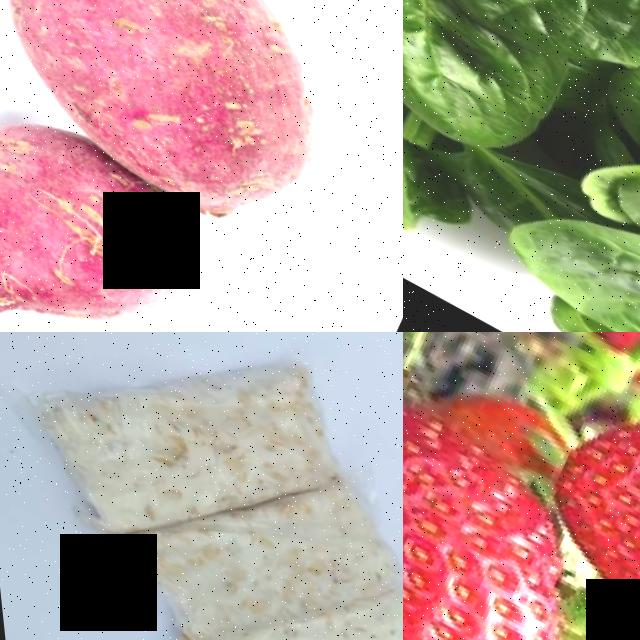spinach: (403, 0, 578, 181), (469, 161, 640, 332), (418, 0, 640, 128)
strawberry: (403, 393, 599, 640), (527, 353, 640, 640)
sweet potato: (0, 0, 390, 251), (0, 85, 226, 332)
tempeh: (5, 332, 363, 586), (95, 423, 403, 640), (126, 575, 392, 640)
